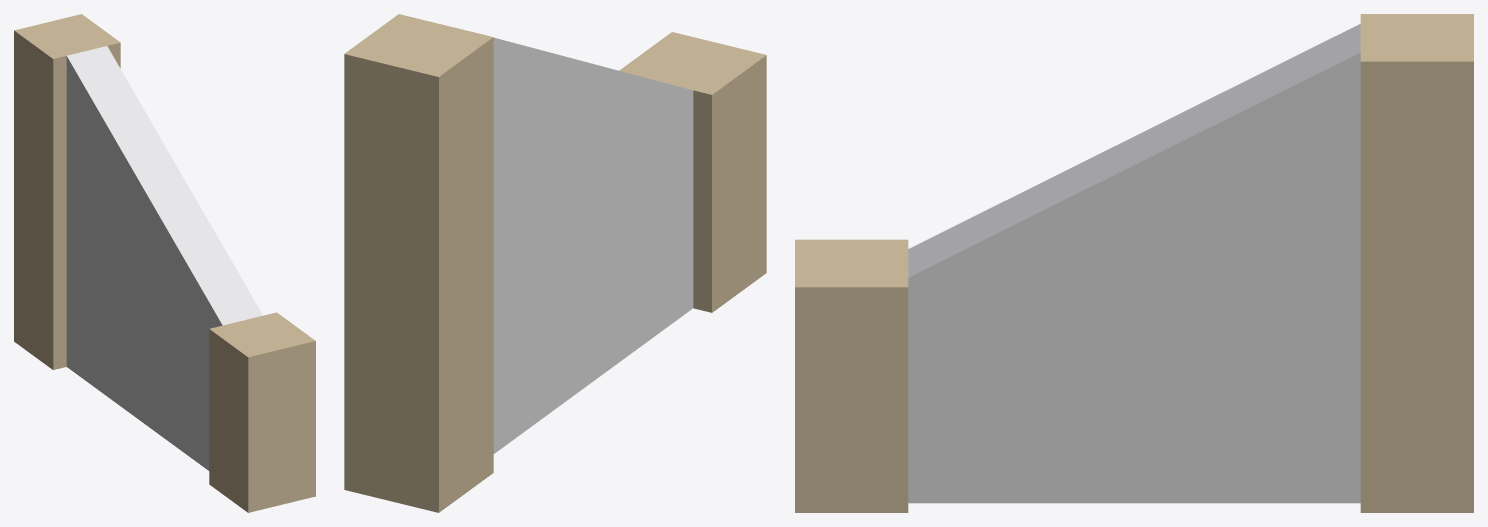
File: Wood_Slanted_Wall_01.glb
3 renders of one model, left to right at view 1: azimuth 30°, elevation 25°; view 2: azimuth 150°, elevation 25°; view 3: azimuth 270°, elevation 25°, orthographic. The views are drawn at different scales.
Parts seen in each view (by area): view 1: Wood_Slanted_Wall_01; view 2: Wood_Slanted_Wall_01; view 3: Wood_Slanted_Wall_01.
Boxes of the visible parts, <box> form: Wood_Slanted_Wall_01: <box>14,14,315,512</box>; Wood_Slanted_Wall_01: <box>344,14,766,512</box>; Wood_Slanted_Wall_01: <box>795,14,1473,512</box>.
Bounding box in the file's own units: 0.5001 × 2.2 × 3.
